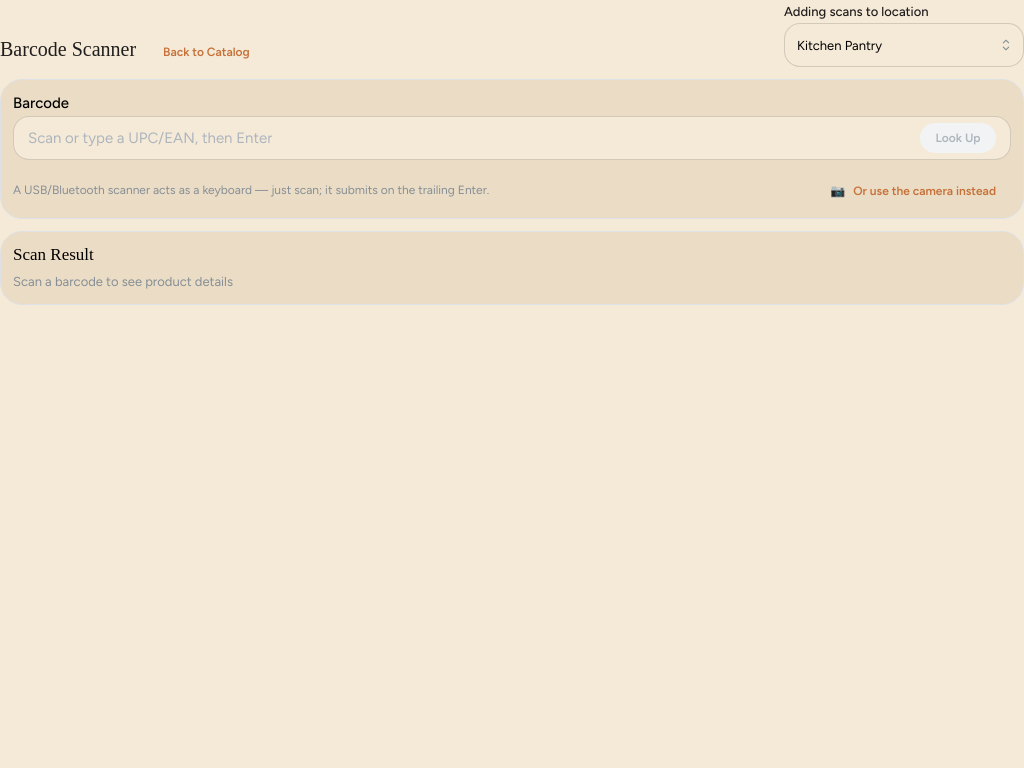
it: ScanPage best-by estimation › marks a learned date as an estimate and explains where it came from
In the field with placeholder "Scan or type a UPC/EAN, then Enter": (512, 138) [13,116,1011,160], type "111"
Then press Enter
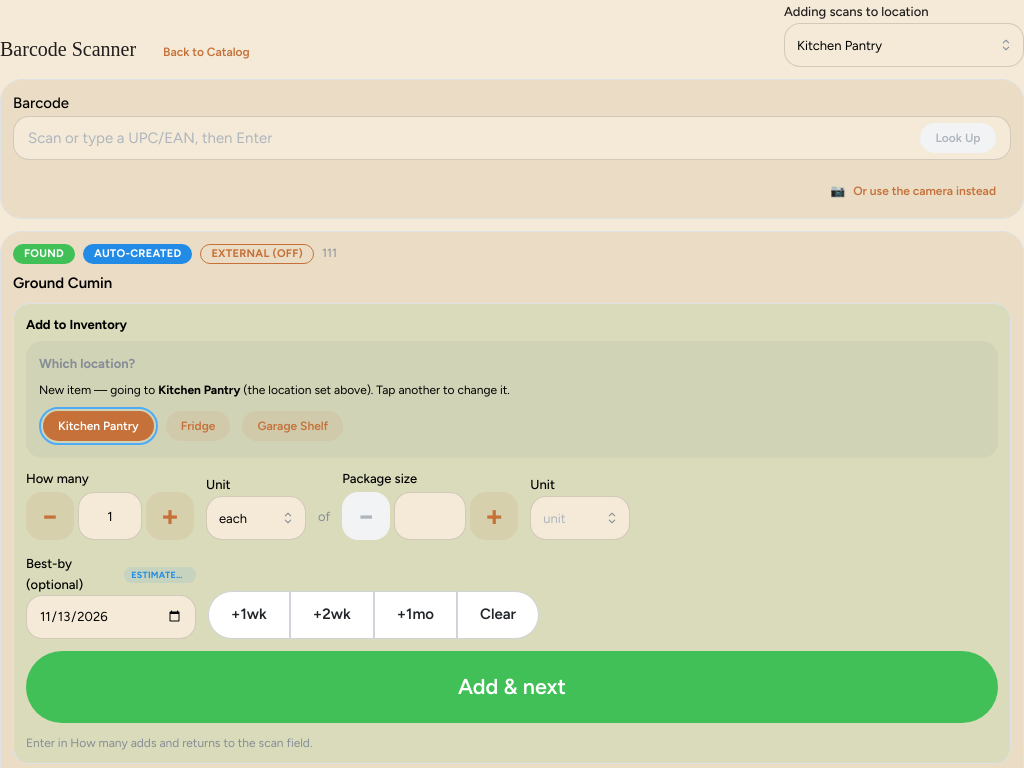
Check: the text "going to" is shown, box [39,383,158,397]
Check: the element named "How this best-by date was estimated" shows "estimated", box [131,568,198,580]
Hover over the element named "How this best-by date was estimated": (160, 574) [124,566,196,582]
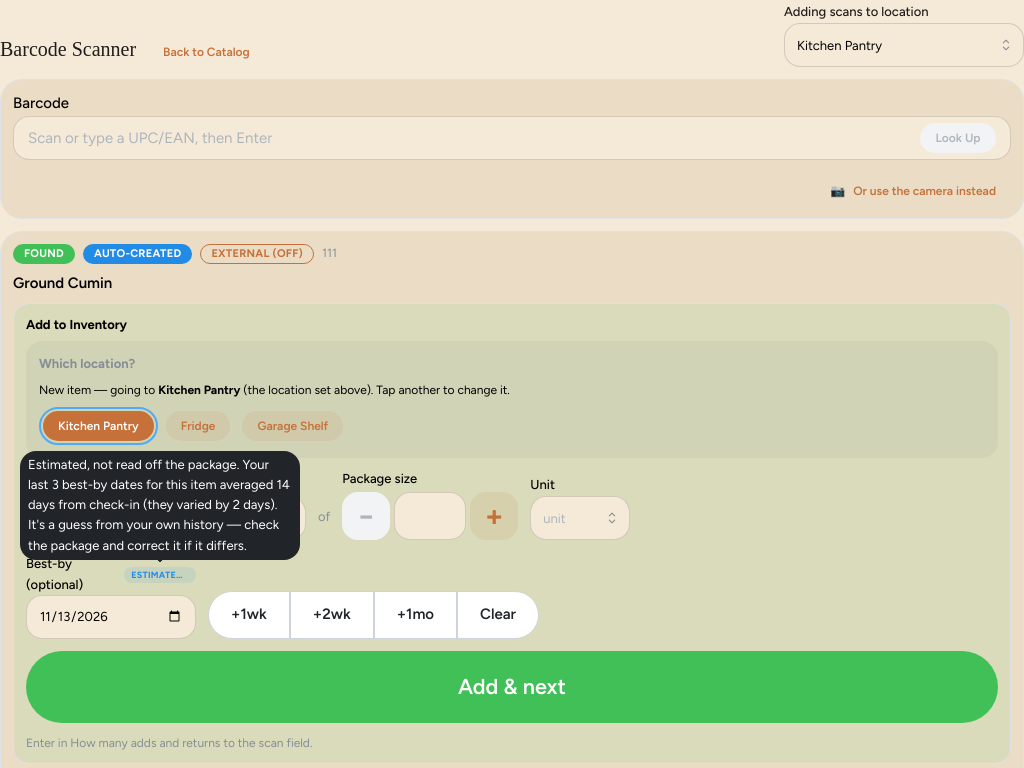
Check: the tooltip "last 3 best-by dates" shows "14 days from check-in", box [28,457,290,552]
Check: the tooltip "last 3 best-by dates" shows "varied by 2 days", box [28,457,290,552]
Check: the tooltip "last 3 best-by dates" shows "it's a guess", box [28,457,290,552]
